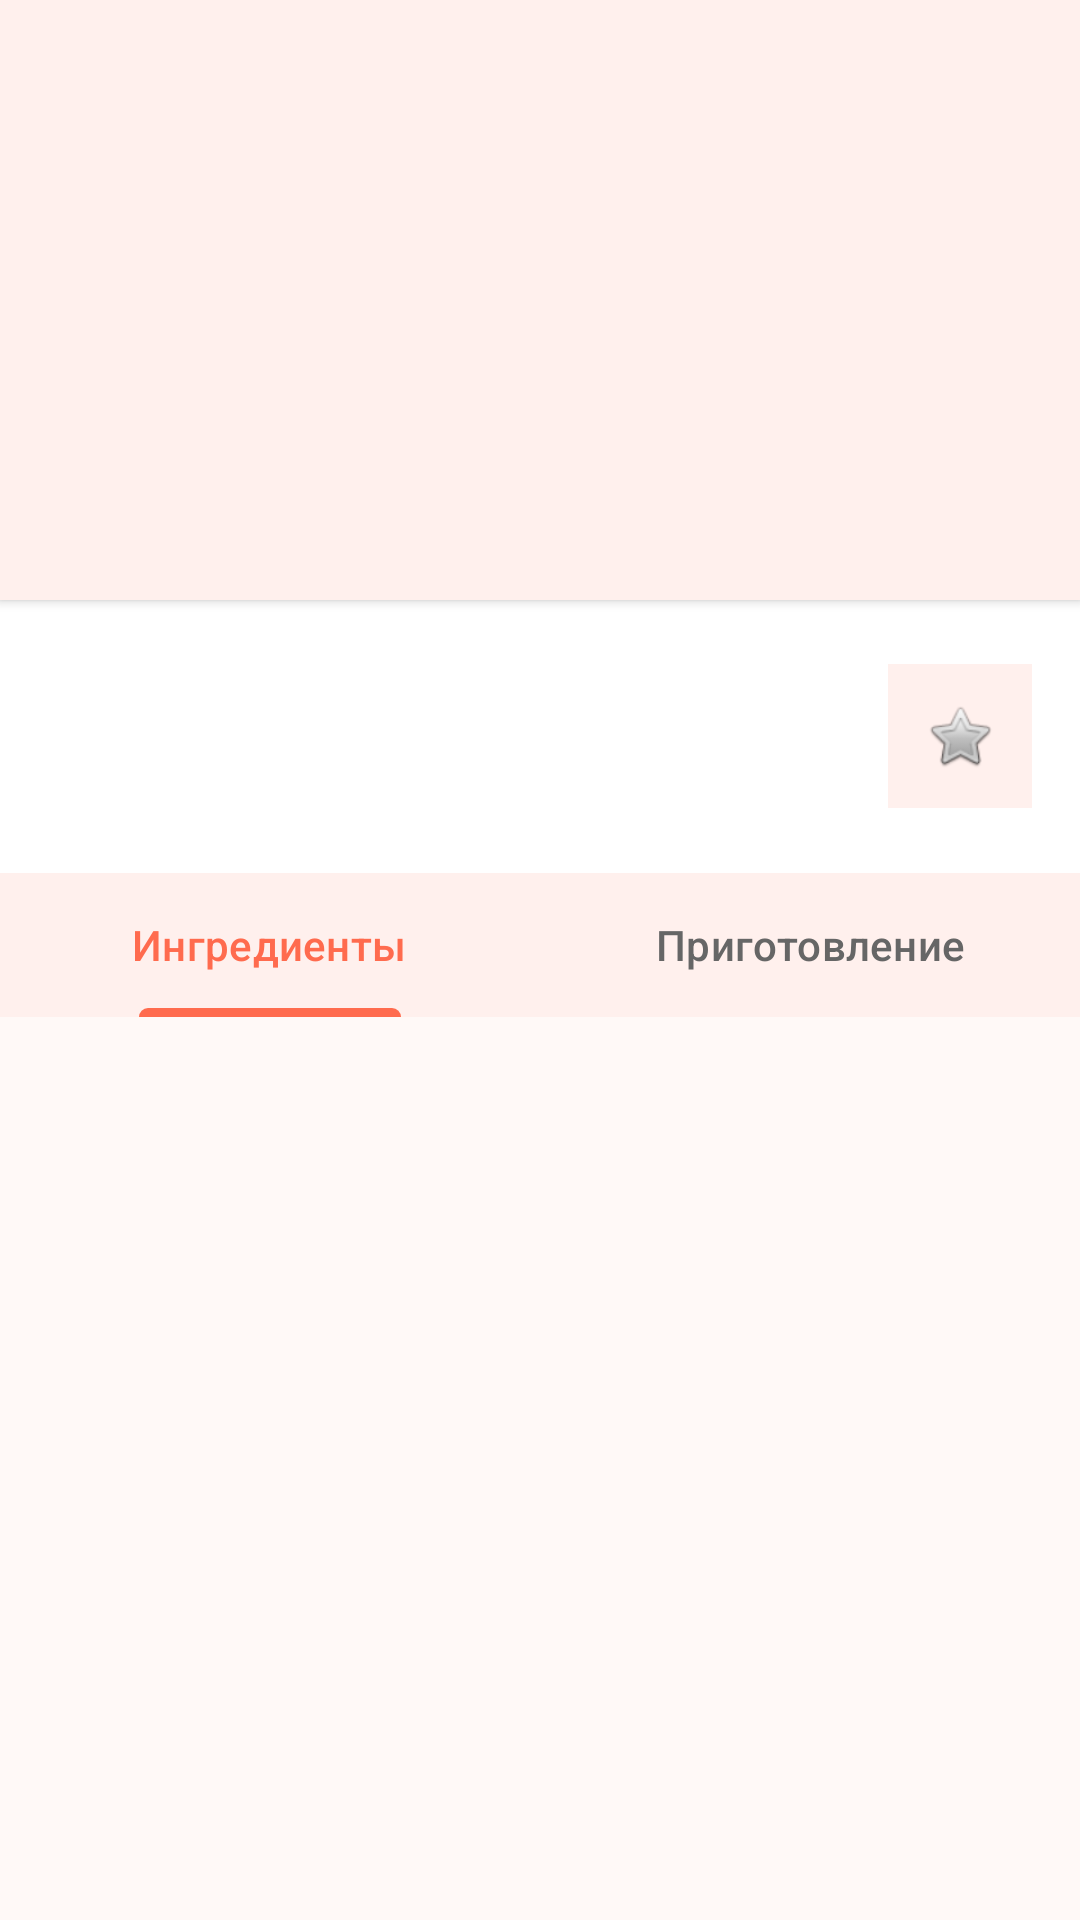

Where to tap for icons on this 1080x1920 app screen, as (x,y):
star off: (960,736)
